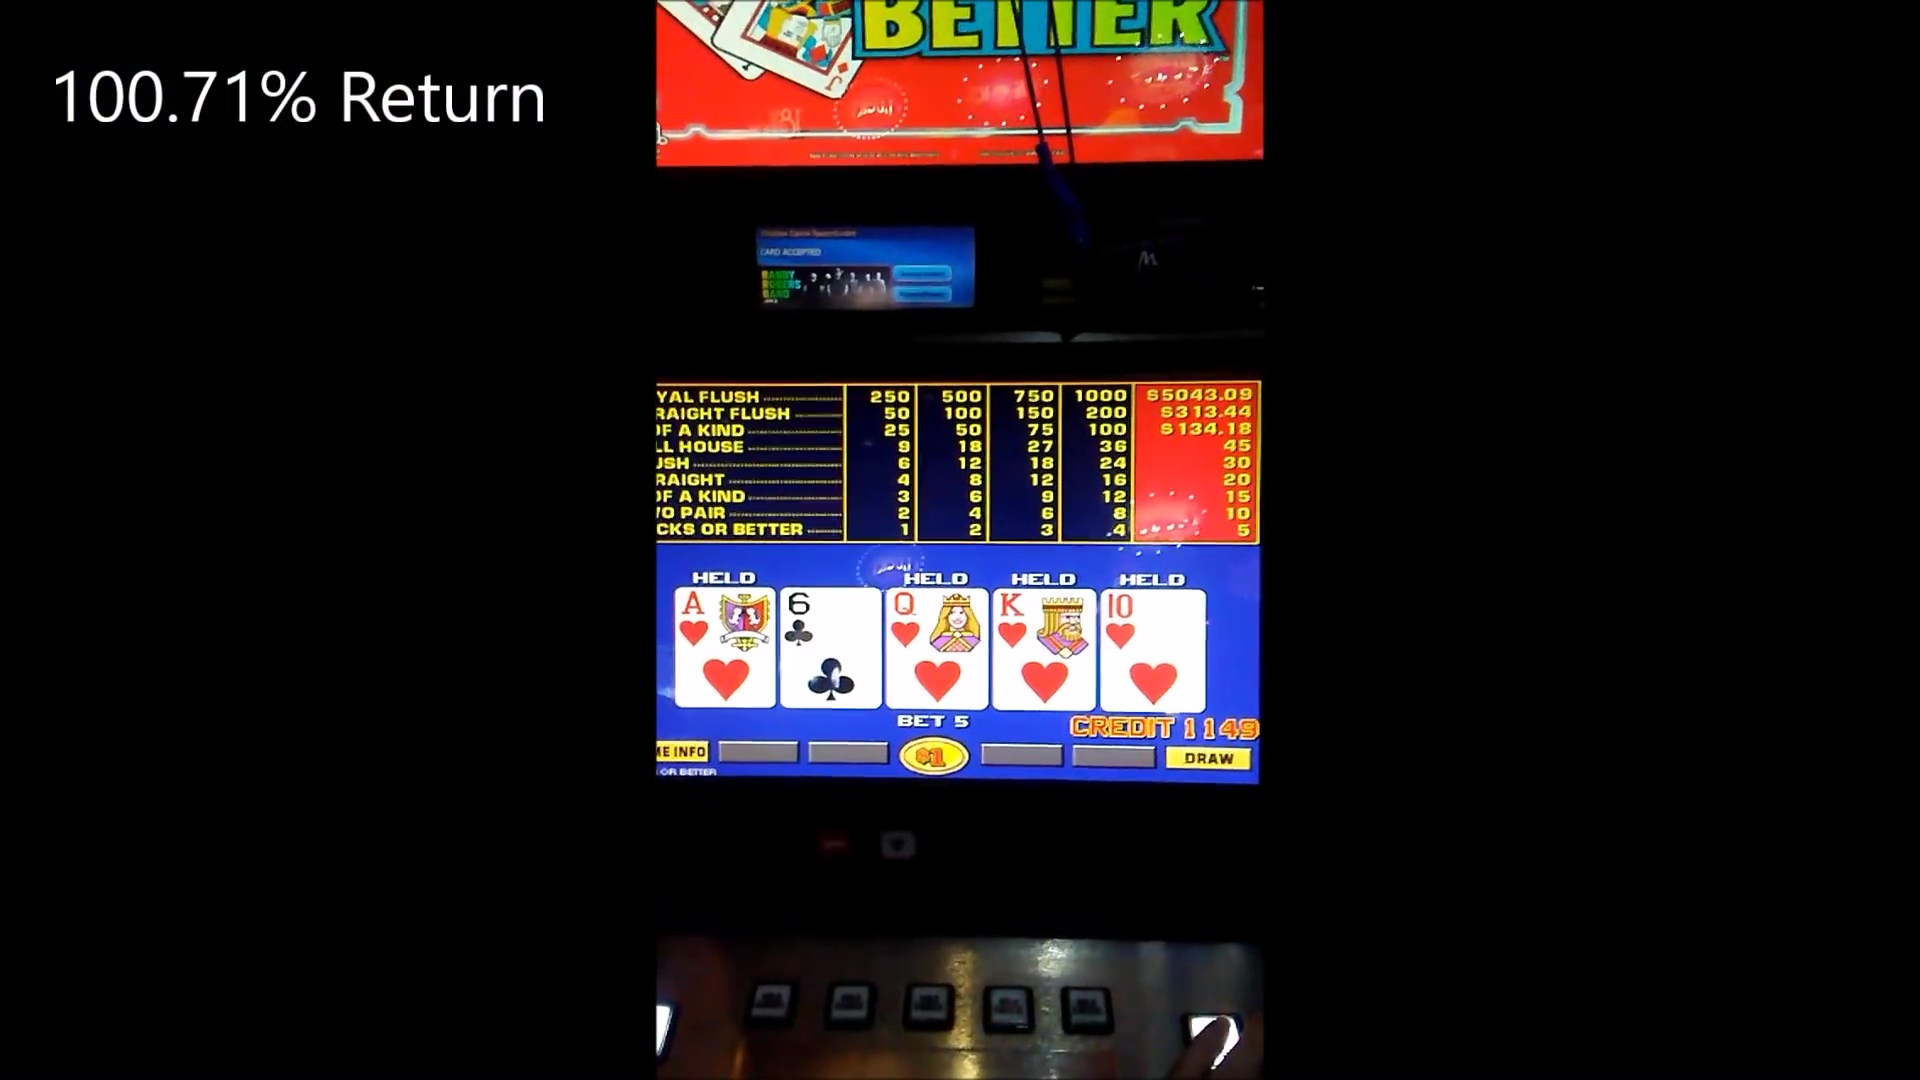6C: (782, 588, 881, 655)
AH: (678, 588, 771, 654)
KH: (994, 592, 1095, 655)
QH: (884, 591, 986, 654)
TH: (1102, 592, 1207, 658)
